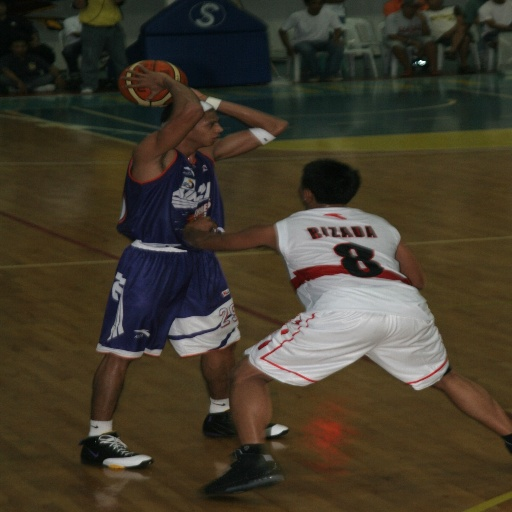hand: (123, 63, 172, 97), (183, 213, 217, 234), (188, 88, 205, 100)
